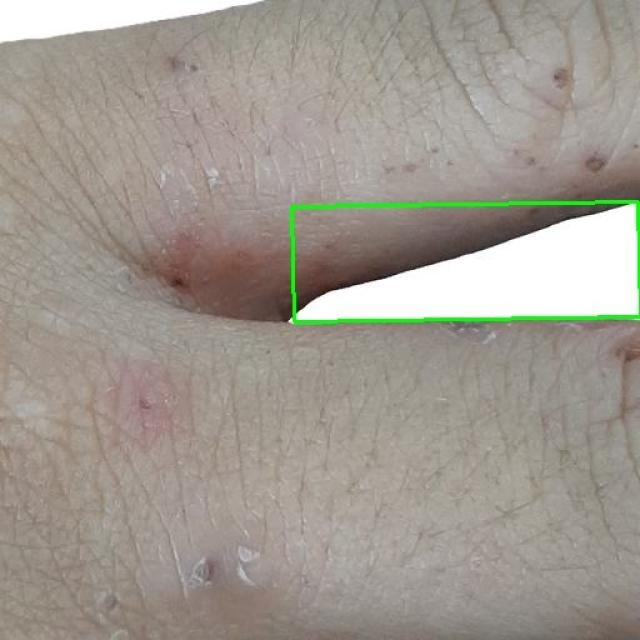Scabies: (292, 202, 640, 322)
